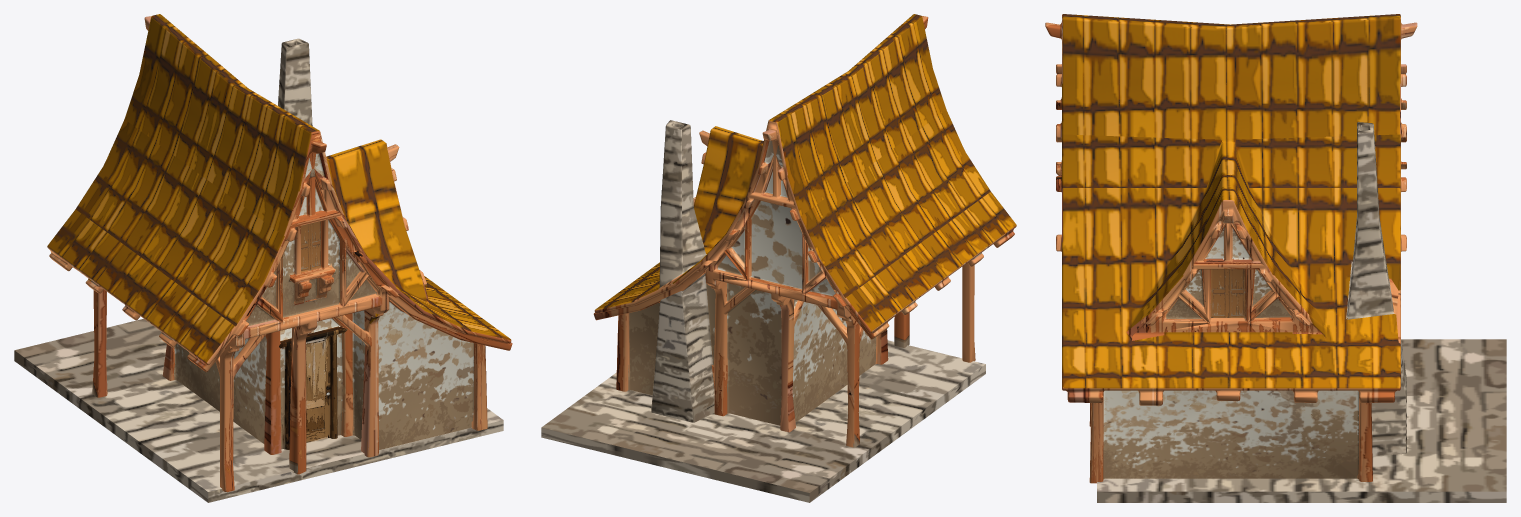
File: Casa_comum 7.fbx
3 renders of one model, left to right at view 1: azimuth 30°, elevation 25°; view 2: azimuth 150°, elevation 25°; view 3: azimuth 270°, elevation 25°, orthographic. The views are drawn at different scales.
Visible parts, largest first — view 1: Casa_comum 7, Plane; view 2: Casa_comum 7, Plane; view 3: Casa_comum 7, Plane.
Boxes of the visible parts, x1,y1,x2,y2 form: Casa_comum 7: (47,14,512,492); Plane: (14,318,503,502); Casa_comum 7: (593,14,1016,447); Plane: (541,340,985,502); Casa_comum 7: (1045,14,1417,483); Plane: (1097,339,1506,502).
Bounding box in the file's own units: 548 × 602 × 659.
